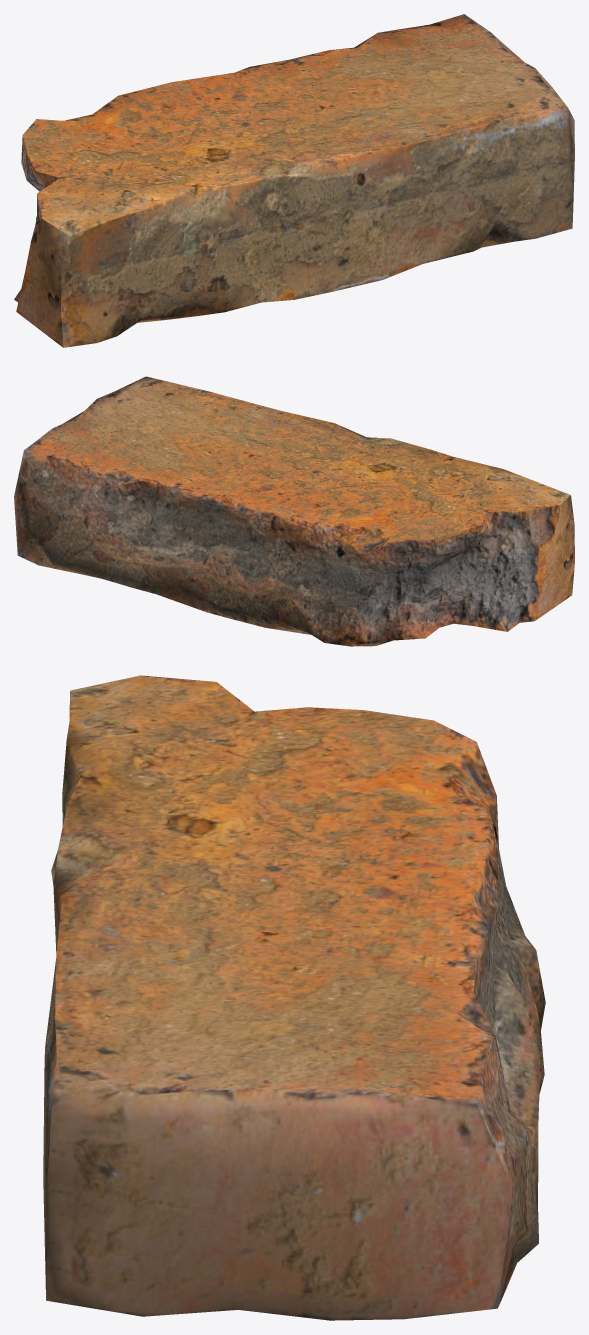
File: SM_Brick_01_04.fbx
The picture shows the model from 3 angles, top to bottom: view 1: azimuth 30°, elevation 25°; view 2: azimuth 150°, elevation 25°; view 3: azimuth 270°, elevation 25°; orthographic projection. The views are drawn at different scales.
Parts seen in each view (by area): view 1: sm_Brick_01_04_LOD0; view 2: sm_Brick_01_04_LOD0; view 3: sm_Brick_01_04_LOD0.
Part boxes in pixels (<box>): sm_Brick_01_04_LOD0: <box>14,14,574,347</box>; sm_Brick_01_04_LOD0: <box>14,376,574,646</box>; sm_Brick_01_04_LOD0: <box>43,675,545,1320</box>.
Size of the model in its own units: 12.34 by 26.17 by 6.49.
